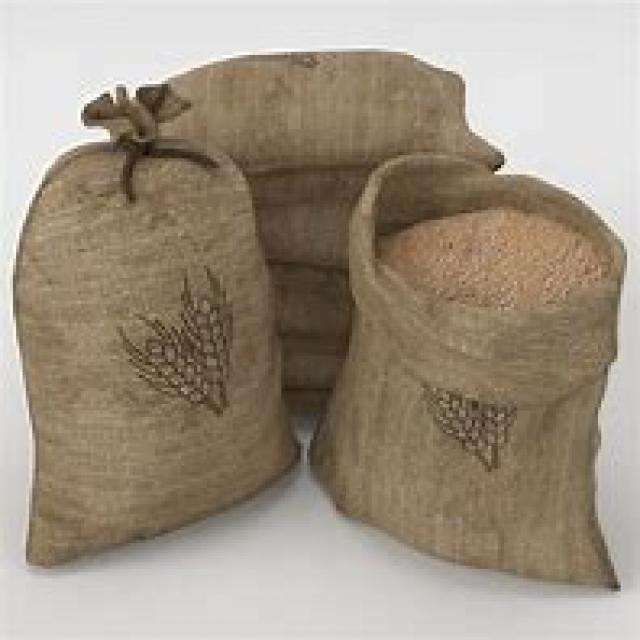gunny_bag: (3, 79, 314, 574), (304, 154, 629, 600)
